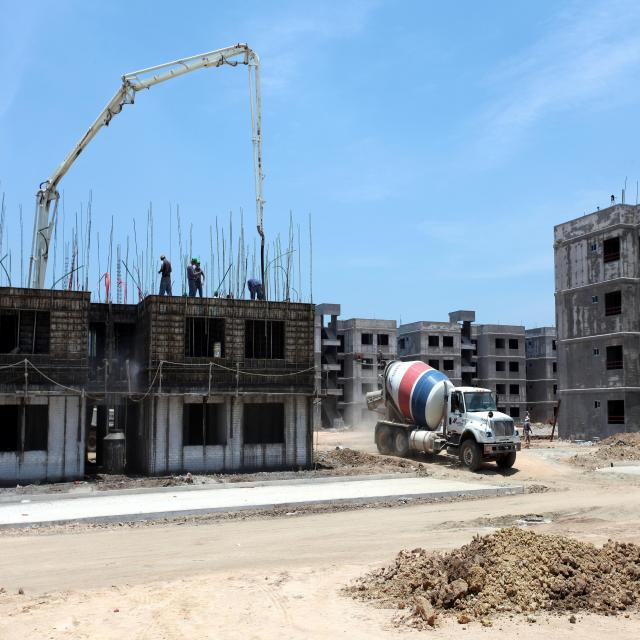cement: (0, 473, 524, 528)
white-sand: (0, 443, 640, 640)
